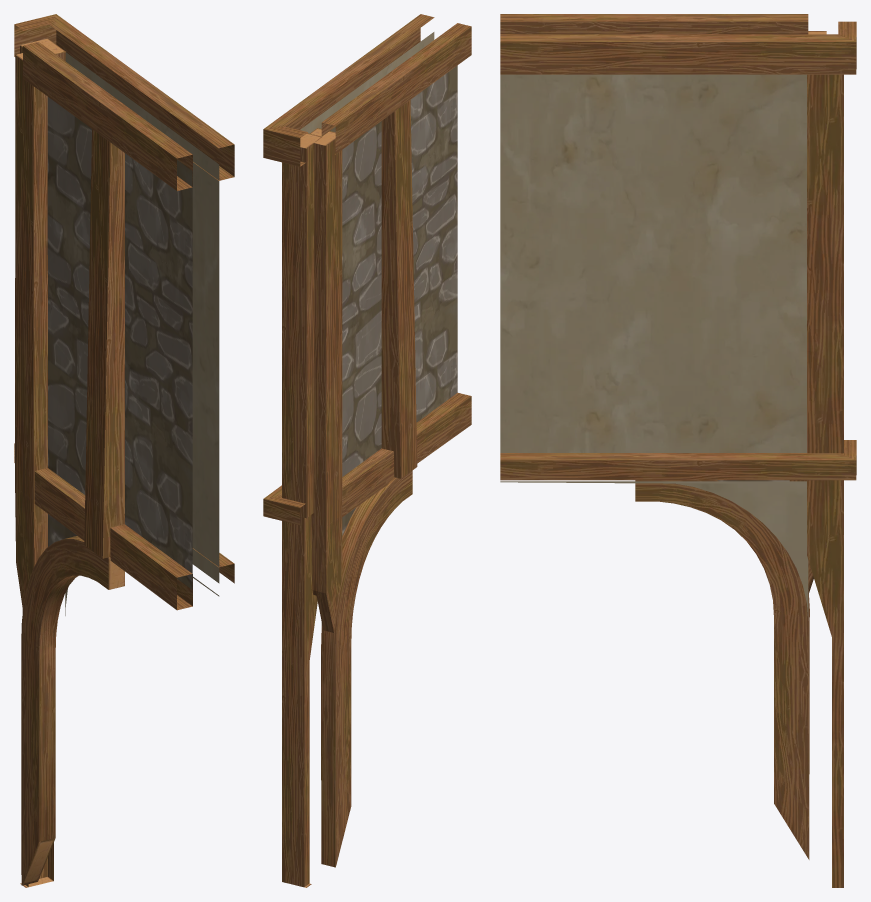
Rendered from overhang_side_unevenbrick_long_l.glb.
3 views of the same model, side by side, from view 1: azimuth 30°, elevation 25°; view 2: azimuth 150°, elevation 25°; view 3: azimuth 270°, elevation 25° (orthographic). The views are drawn at different scales.
Size of the model in its own units: 0.4794 by 6.12 by 2.31.
3 materials, 3 textured.
